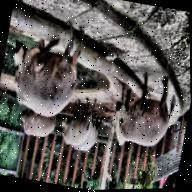boar: (0, 18, 92, 124), (102, 70, 185, 154), (46, 94, 107, 158), (11, 99, 66, 150)
